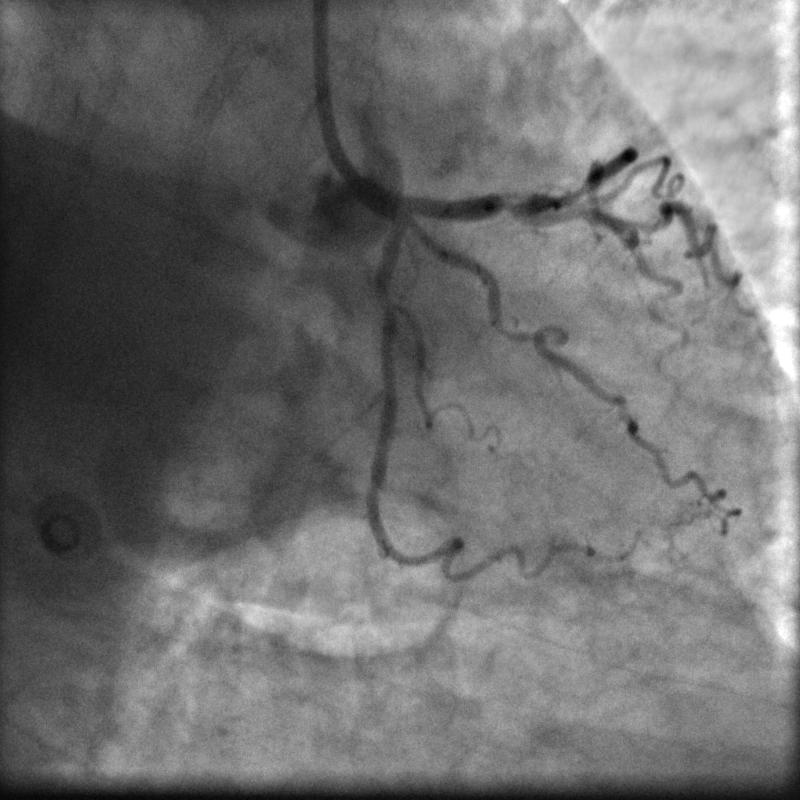Stenosis: (492, 190, 522, 222)
